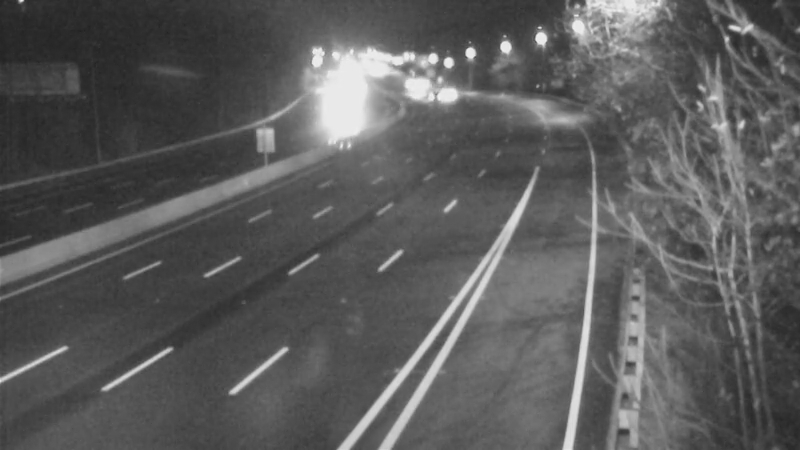vehicle: (425, 68, 475, 118), (408, 75, 458, 125)
